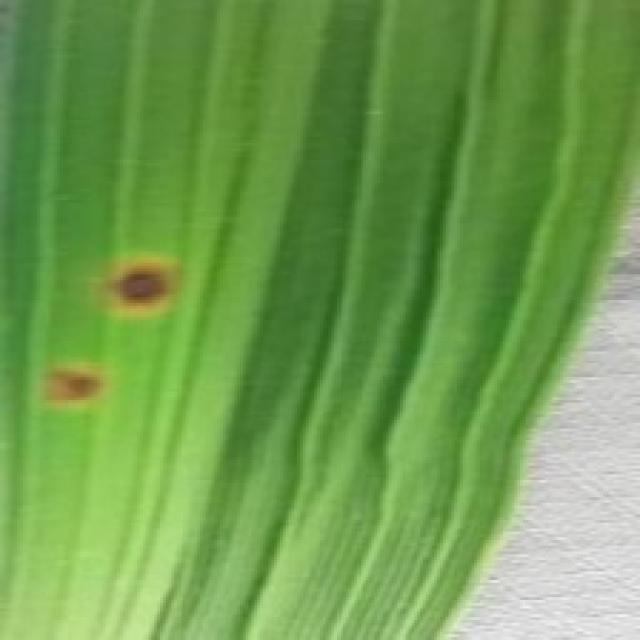Rice___Brown_Spot: (0, 0, 637, 637)
